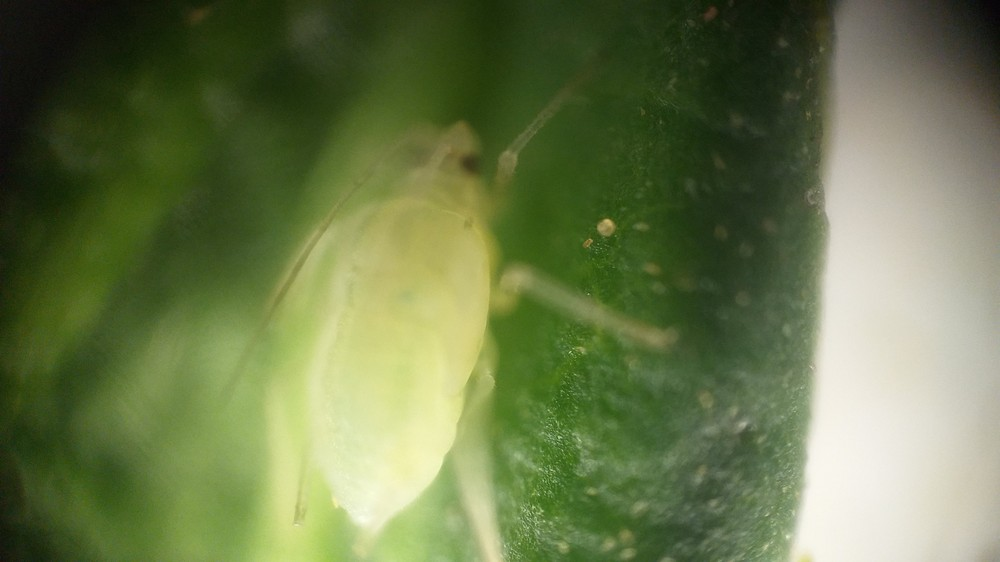Pulgon: (204, 86, 689, 560)
